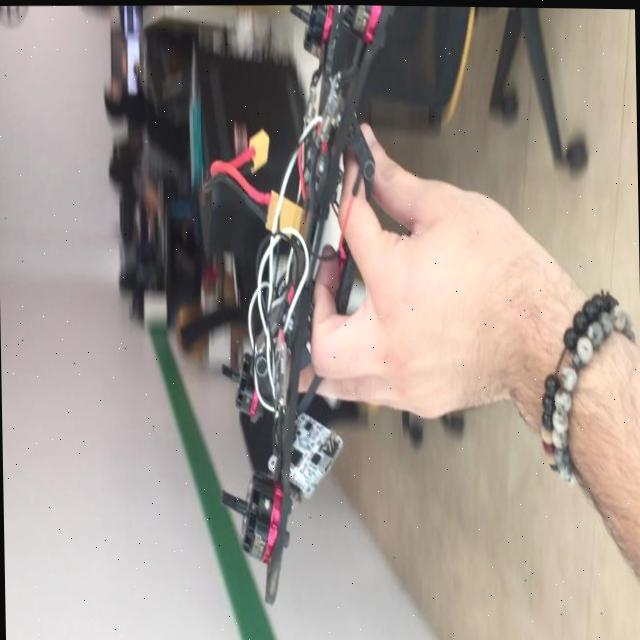drone: (212, 2, 408, 609)
